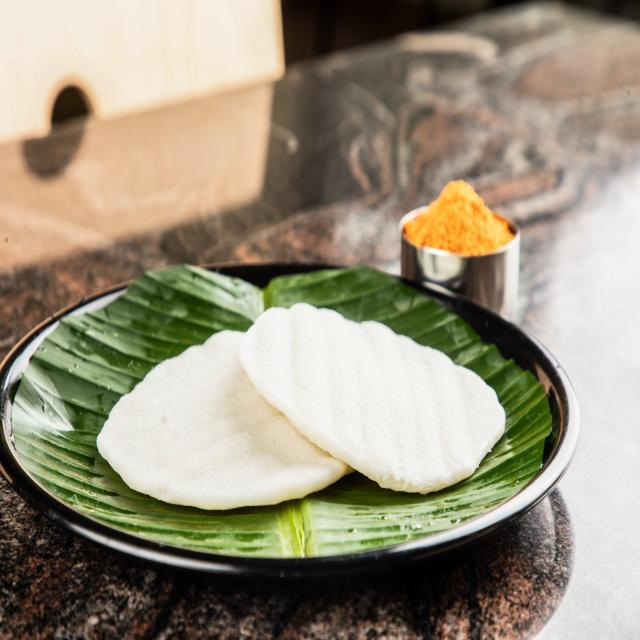idly: (100, 308, 349, 515), (245, 304, 510, 490)
